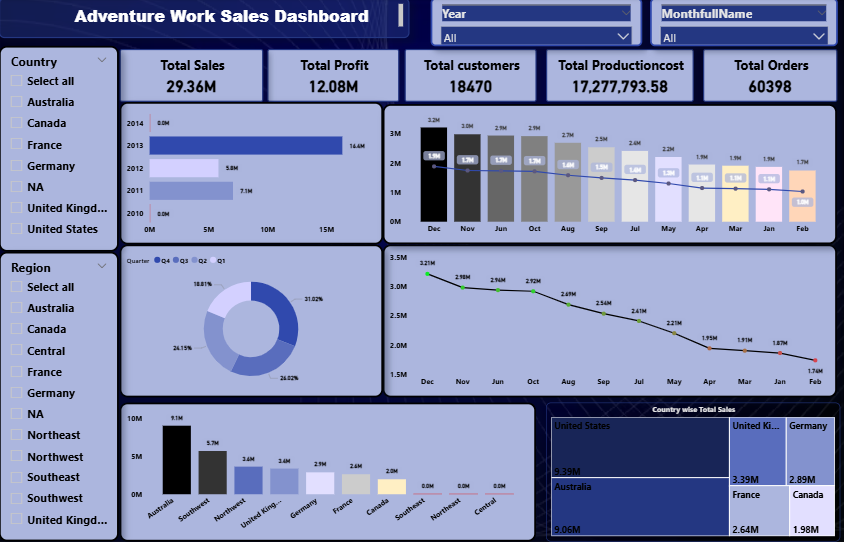

The page's visual inventory and layout, read from the dashboard file:
{"tool":"powerbi","page":{"name":"Dashboard","canvas":[1400,900],"ordinal":4},"visuals":[{"type":"textbox","box":[0,0,678.8,66.5],"z":0},{"type":"card","title":"Total Profit","fields":{"Values":["Sum(sales datasheet.Profit')"]},"box":[443.7,84.3,218.4,87.7],"z":1000},{"type":"card","title":"Total Sales","fields":{"Values":["Sum(sales datasheet.SalesAmount)"]},"box":[199.5,84.3,237.3,87.7],"z":2000},{"type":"card","title":"Total customers","fields":{"Values":["Count(sales datasheet.Customer full name)"]},"box":[670.7,84.3,218.4,87.7],"z":3000},{"type":"card","title":"Total Productioncost","fields":{"Values":["Sum(sales datasheet.TotalProductCost)"]},"box":[904.6,84.3,244.2,87.7],"z":4000},{"type":"card","title":"Total Orders","fields":{"Values":["Sum(sales datasheet.OrderQuantity)"]},"box":[1164.2,84.3,221.8,87.7],"z":5000},{"type":"barChart","title":"Year wise Total sales","fields":{"Category":["sales datasheet.Year"],"Y":["Sum(sales datasheet.SalesAmount)"]},"box":[199.6,171.1,435.4,235.8],"z":6000},{"type":"lineChart","title":"Month wise Total Sales","fields":{"Category":["sales datasheet.MonShortName"],"Y":["Sum(sales datasheet.SalesAmount)"]},"box":[635.1,406.9,751,252.9],"z":7000},{"type":"donutChart","title":"Quarter wise Total Sales","fields":{"Category":["sales datasheet.Quarter"],"Y":["Sum(sales datasheet.SalesAmount)"]},"box":[199.6,406.9,435.4,252.9],"z":8000},{"type":"lineStackedColumnComboChart","title":"Month wise Total Sales andProductioncost","fields":{"Category":["sales datasheet.MonShortName"],"Y2":["Sum(sales datasheet.Productioncost)"],"Y":["Sum(sales datasheet.SalesAmount)"]},"box":[635.1,174.9,751,232],"z":9000},{"type":"treemap","title":"Country wise Total Sales","fields":{"Group":["DimSalesTerritory.SalesTerritoryCountry"],"Values":["Sum(sales datasheet.SalesAmount)"]},"box":[905.1,669.3,486.7,230.1],"z":10000},{"type":"columnChart","title":"Region wise total Sales","fields":{"Category":["DimSalesTerritory.SalesTerritoryRegion"],"Y":["Sum(sales datasheet.SalesAmount)"]},"box":[199.6,669.3,688.3,230.1],"z":11000},{"type":"slicer","fields":{"Values":["sales datasheet.Year"]},"box":[713.3,0,349.9,79.9],"z":12000},{"type":"slicer","fields":{"Values":["sales datasheet.MonthfullName"]},"box":[1076.7,0,310.7,79.9],"z":13000},{"type":"slicer","fields":{"Values":["DimSalesTerritory.SalesTerritoryCountry"]},"box":[0,79.9,197.7,340.3],"z":14000},{"type":"slicer","fields":{"Values":["DimSalesTerritory.SalesTerritoryRegion"]},"box":[0,420.2,197.7,479.1],"z":15000}]}

Visuals, with their boxes in screenshot pixels (x1, y1, x2, y2), scaled from the page's 1400x900 canvas onto the 844x542 screenshot:
textbox: detection(0, 0, 409, 40)
"Total Profit" card: detection(267, 51, 399, 104)
"Total Sales" card: detection(120, 51, 263, 104)
"Total customers" card: detection(404, 51, 536, 104)
"Total Productioncost" card: detection(545, 51, 693, 104)
"Total Orders" card: detection(702, 51, 836, 104)
"Year wise Total sales" barChart: detection(120, 103, 383, 245)
"Month wise Total Sales" lineChart: detection(383, 245, 836, 397)
"Quarter wise Total Sales" donutChart: detection(120, 245, 383, 397)
"Month wise Total Sales andProductioncost" lineStackedColumnComboChart: detection(383, 105, 836, 245)
"Country wise Total Sales" treemap: detection(546, 403, 839, 541)
"Region wise total Sales" columnChart: detection(120, 403, 535, 541)
slicer - sales datasheet.Year: detection(430, 0, 641, 48)
slicer - sales datasheet.MonthfullName: detection(649, 0, 836, 48)
slicer - DimSalesTerritory.SalesTerritoryCountry: detection(0, 48, 119, 253)
slicer - DimSalesTerritory.SalesTerritoryRegion: detection(0, 253, 119, 541)
